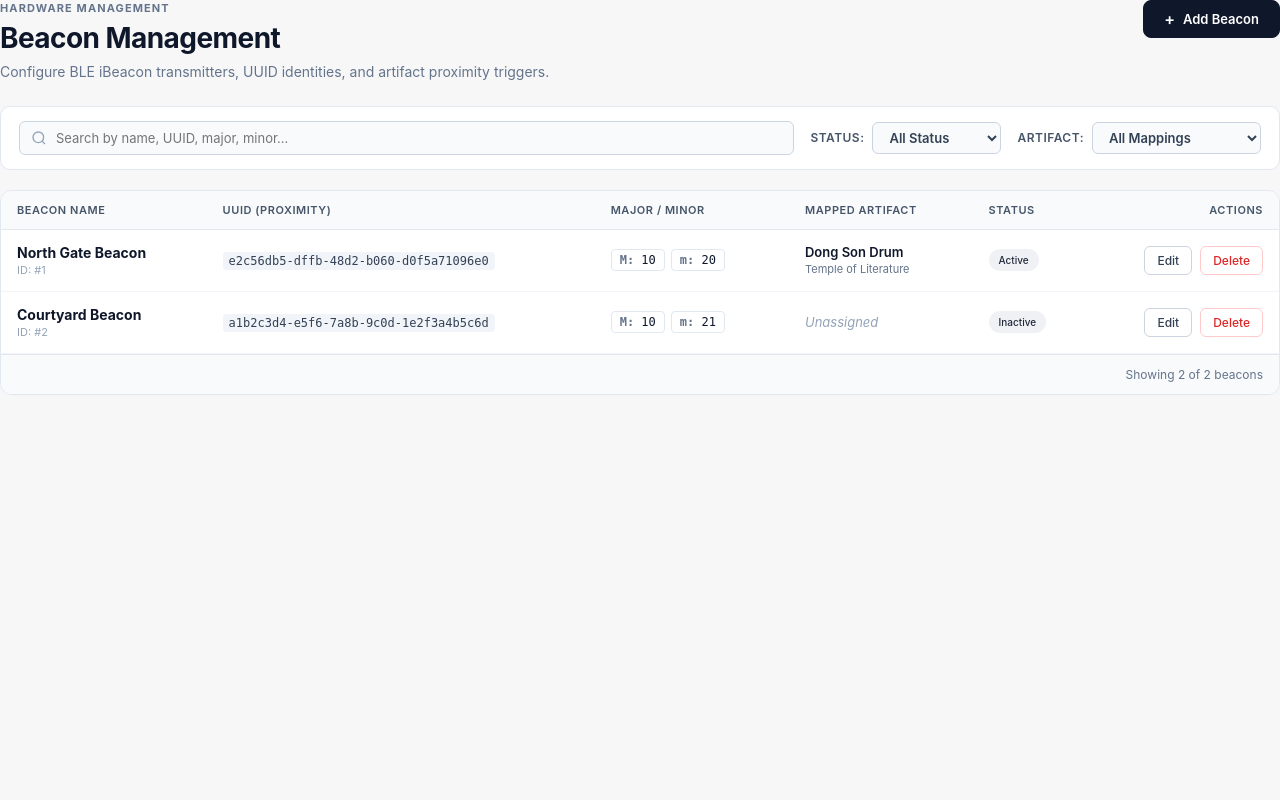
BeaconsPage — Admin Beacon Management › error handling › shows a permission message for 403 on update and keeps the dialog open
Check: the text "North Gate Beacon" is shown, box [17,244,146,260]
What coordinates should you click on to do the following:
click the button with aria-label "edit north gate beacon"
I would click on:
 (1168, 260)
Its box is [1144,246,1192,274].
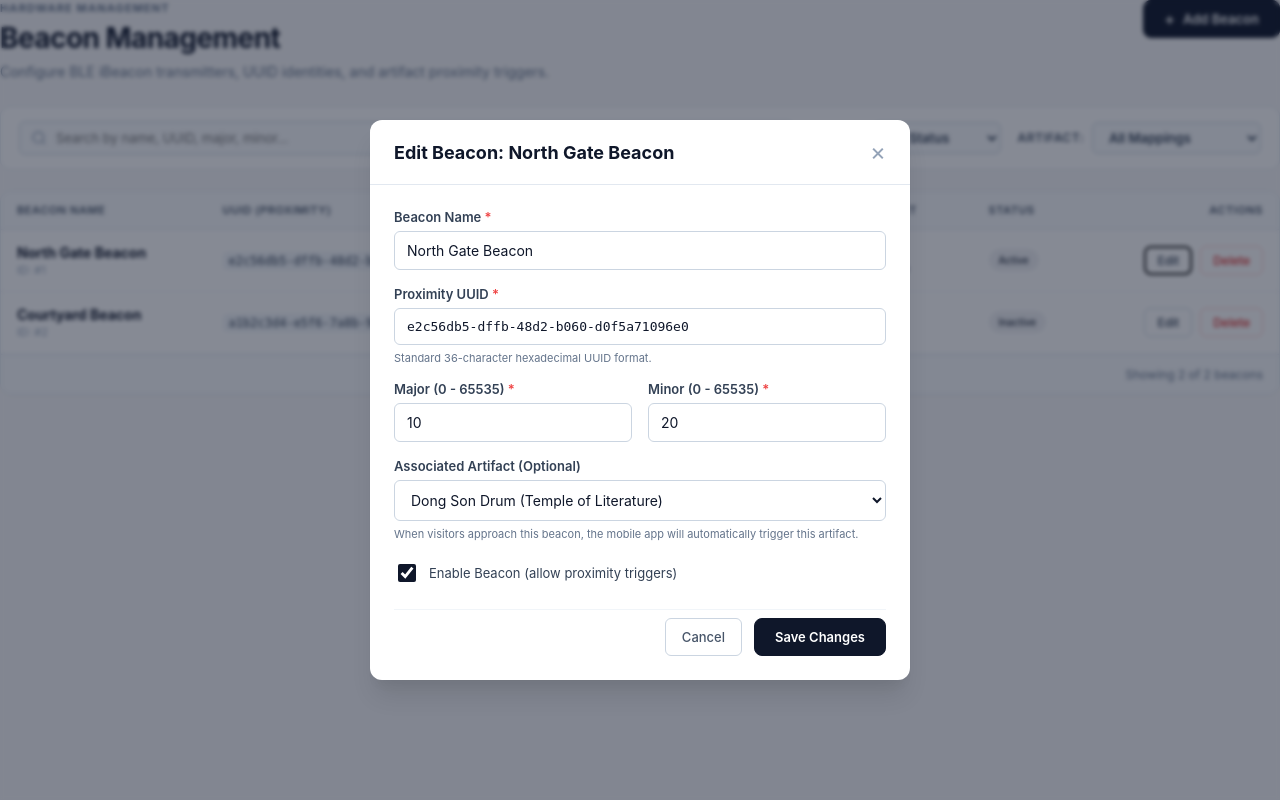
Check: the heading "Edit Beacon: North Gate Beacon" is shown, box [394,142,674,162]
What coordinates should you click on to do the following:
click the button "Save Changes"
I would click on:
 (820, 637)
Its box is [754,618,886,656].
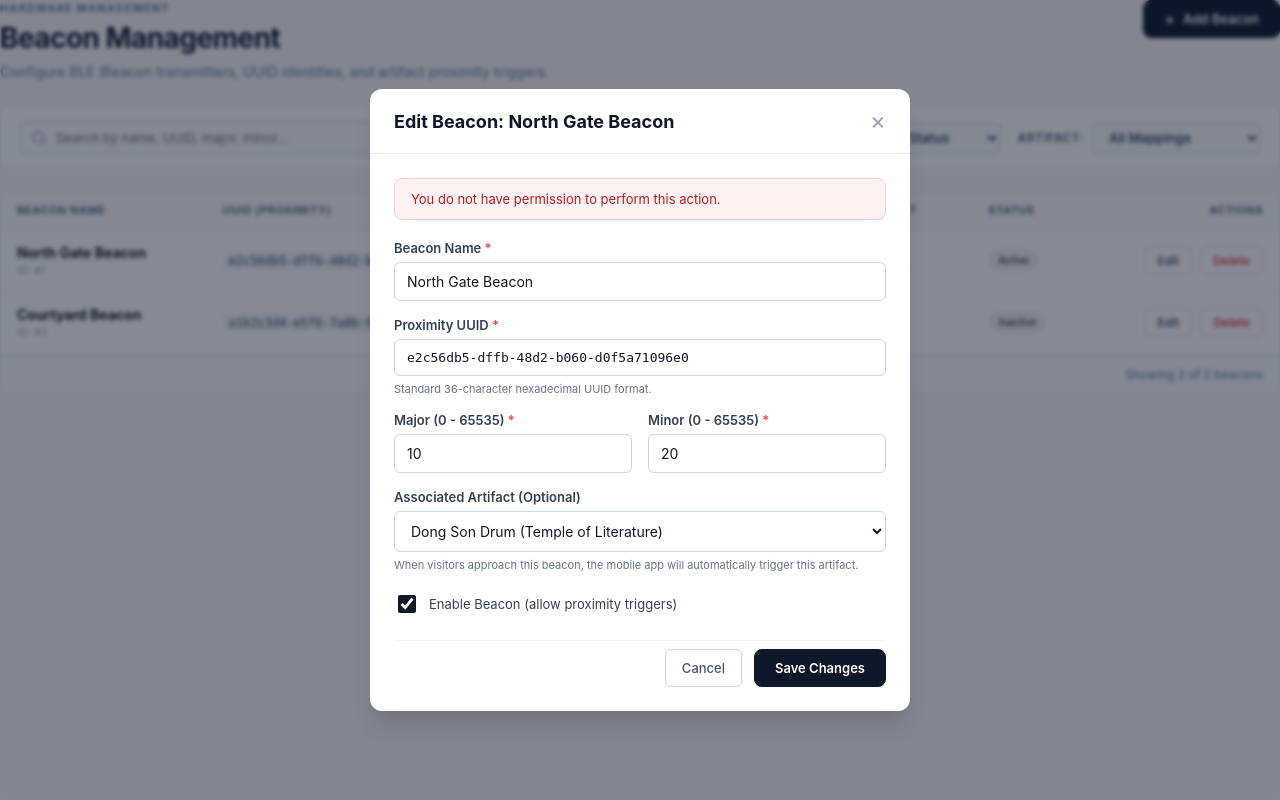
Check: the dialog is shown, box [370,89,910,711]
Check: the text "You do not have permission to perform this action." is shown, box [411,191,721,207]
